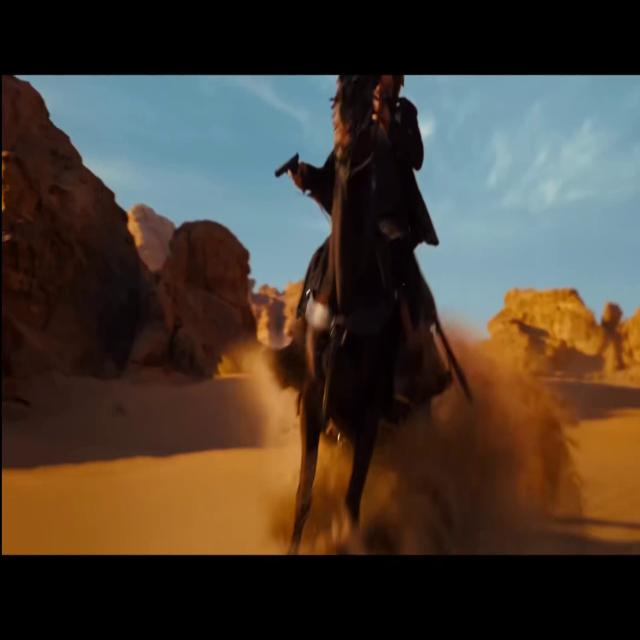weapons: (268, 138, 308, 202)
